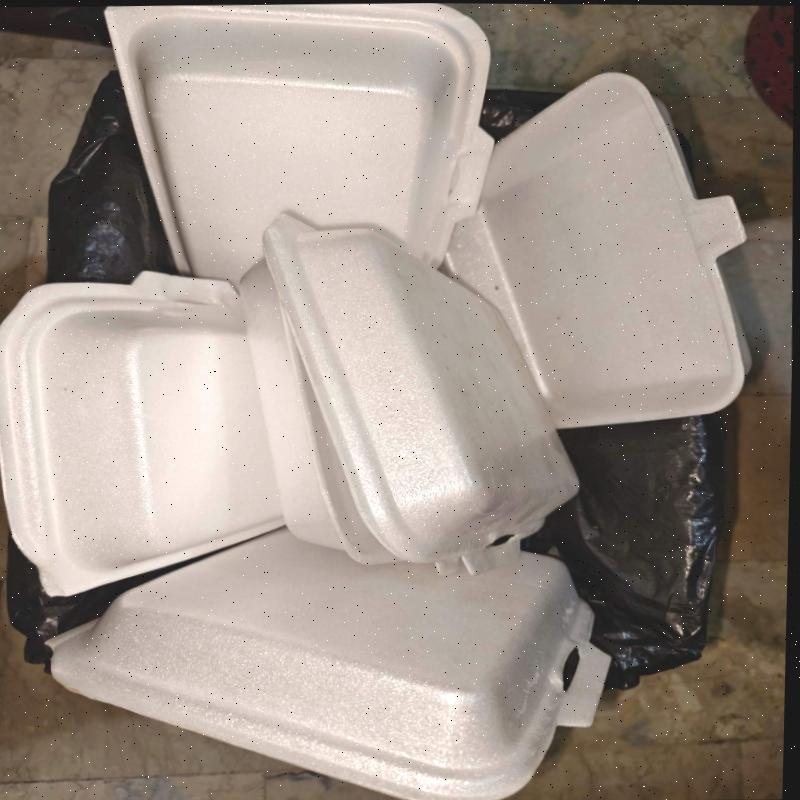styrofoam containers: (44, 528, 611, 800), (240, 211, 580, 577), (441, 72, 752, 431), (102, 3, 494, 285), (0, 271, 285, 598)
